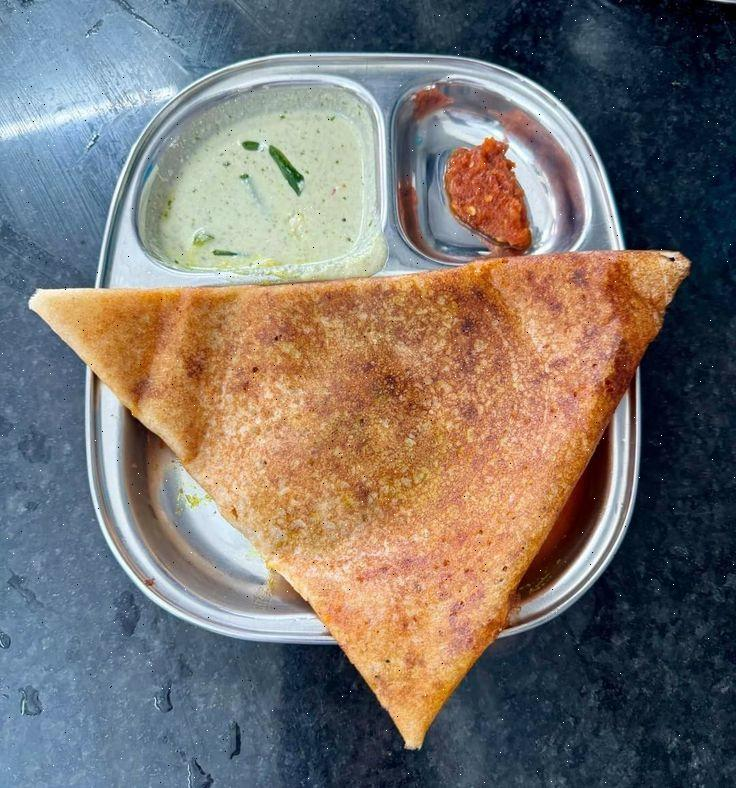dosa: (28, 260, 736, 743)
